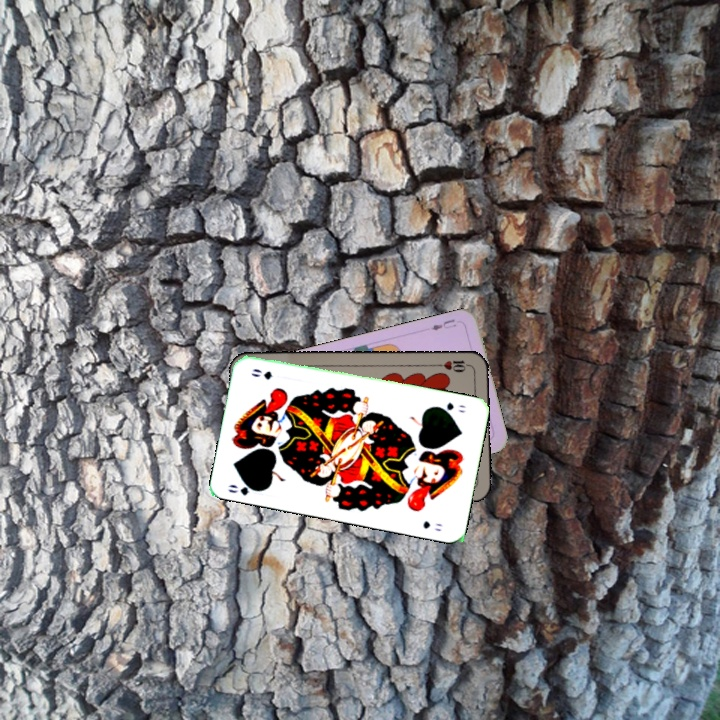EU: (427, 315, 459, 333)
GO: (223, 478, 265, 498), (432, 398, 468, 415)
H10: (433, 356, 473, 375)
